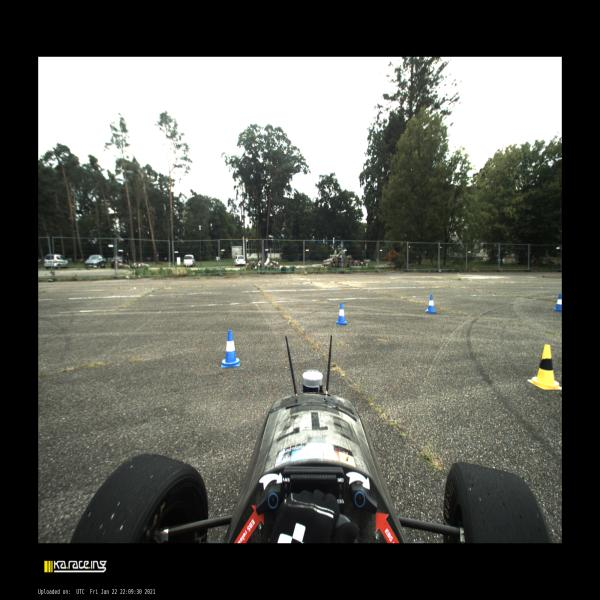blue_cone: (222, 330, 240, 368), (336, 303, 347, 325), (426, 295, 436, 313), (554, 294, 562, 312)
yellow_cone: (528, 344, 562, 390)
